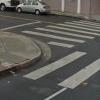Crosswalk: (26, 17, 94, 47)
